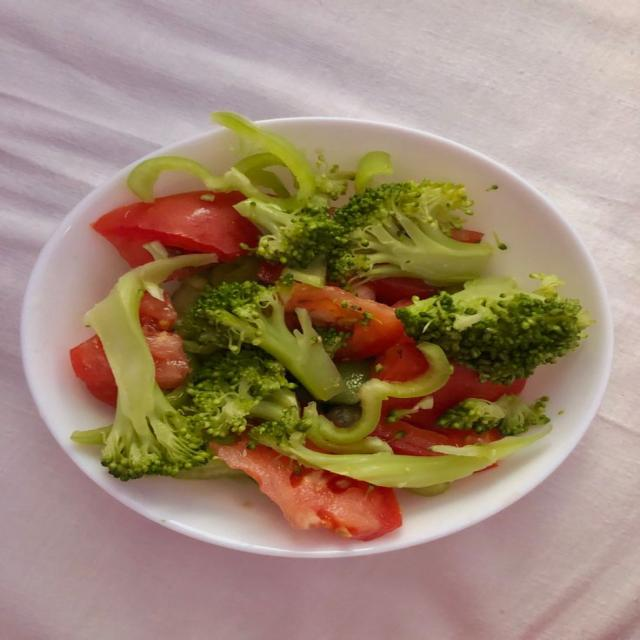sliced_tomato: (214, 440, 402, 540), (92, 191, 258, 267), (287, 284, 403, 359), (409, 365, 523, 428), (70, 336, 117, 406), (373, 421, 452, 455), (145, 331, 189, 389), (374, 338, 427, 382), (370, 277, 437, 305), (141, 292, 177, 330)
